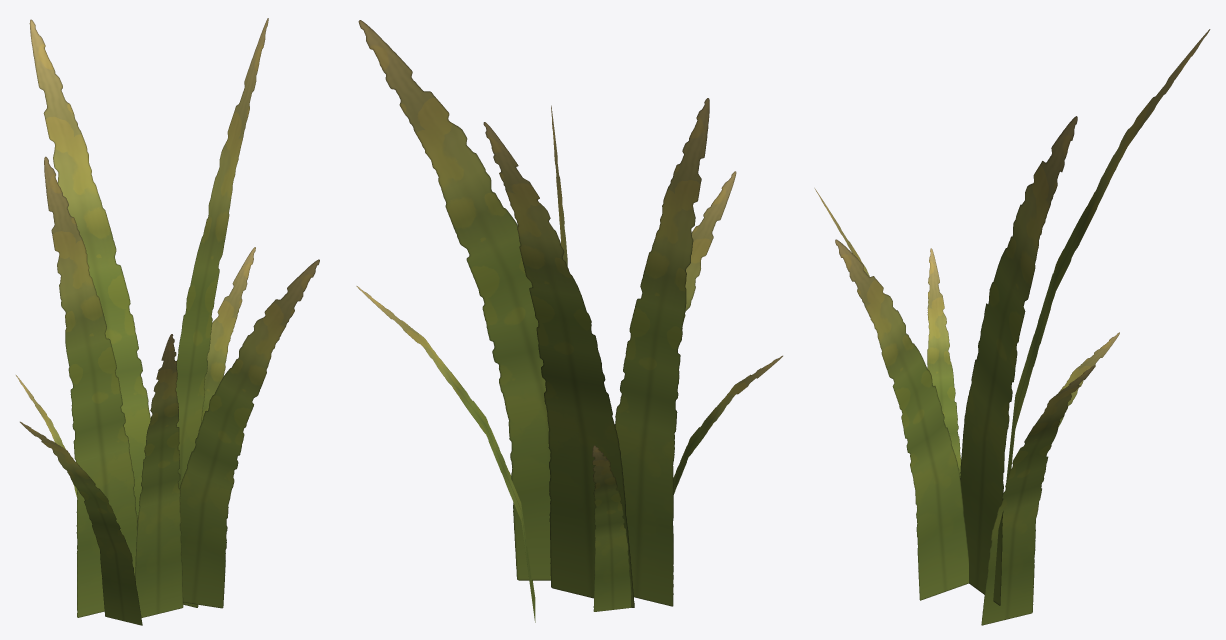
File: weeds_02.fbx
The picture shows the model from 3 angles, left to right: view 1: azimuth 30°, elevation 25°; view 2: azimuth 150°, elevation 25°; view 3: azimuth 270°, elevation 25°; orthographic projection. The views are drawn at different scales.
Parts seen in each view (by area): view 1: Weeds_01; view 2: Weeds_01; view 3: Weeds_01.
Boxes of the visible parts, x1,y1,x2,y2 form: Weeds_01: [16, 18, 319, 625]; Weeds_01: [356, 20, 782, 622]; Weeds_01: [814, 29, 1210, 625].
Bounding box in the file's own units: 34.18 × 54.19 × 33.96.
